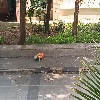fire: (37, 52, 44, 59)
